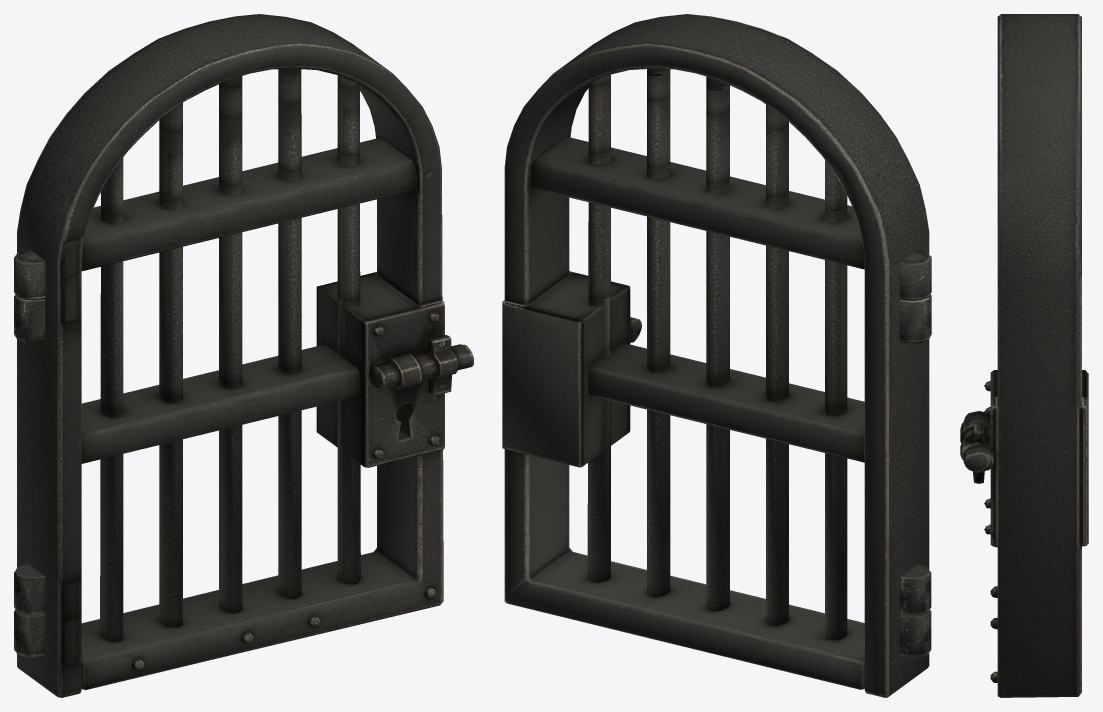
The model's file is PrisonCellDoor_02.fbx.
3 views of the same model, side by side, from view 1: azimuth 30°, elevation 25°; view 2: azimuth 150°, elevation 25°; view 3: azimuth 270°, elevation 25° (orthographic). The views are drawn at different scales.
Parts seen in each view (by area): view 1: PrisonDoor; view 2: PrisonDoor; view 3: PrisonDoor.
Boxes of the visible parts, left/top/right/bottom form: PrisonDoor: left=14, top=14, right=473, bottom=697; PrisonDoor: left=502, top=14, right=931, bottom=697; PrisonDoor: left=960, top=14, right=1088, bottom=697.
Bounding box in the file's own units: 156 × 214 × 43.35.
